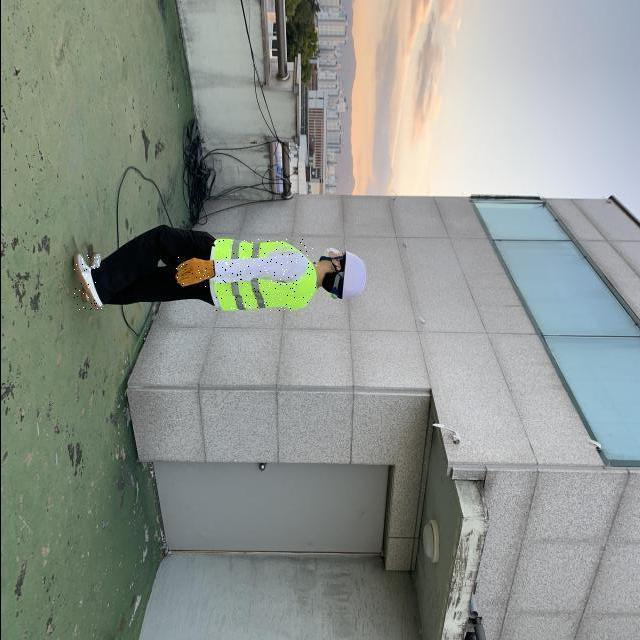boots: (73, 253, 103, 310)
vest: (213, 239, 316, 311)
